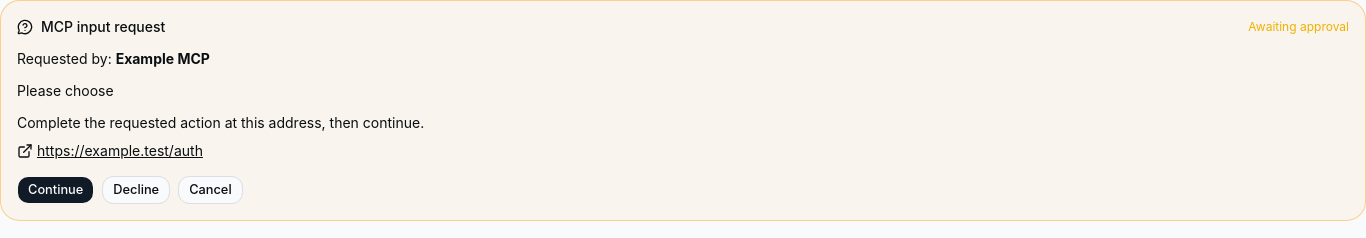
it: keeps the submitted choice visible when delivery later fails
This screenshot has width=1366, height=238.
Click the button "Continue" at (56, 190), box left=17, top=176, right=94, bottom=204
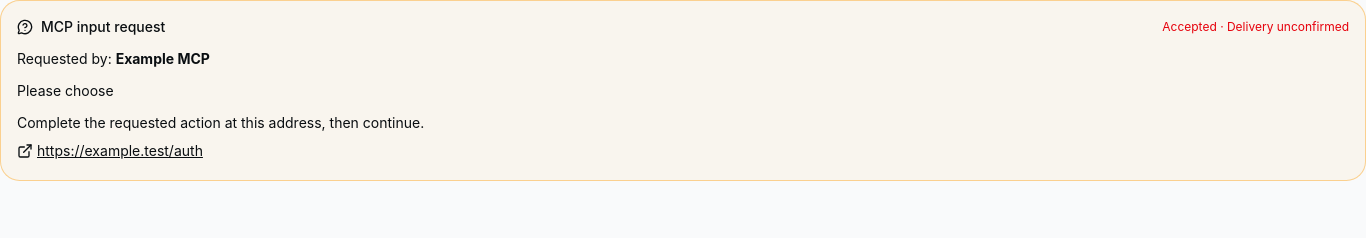
Expected: the text "Accepted · Delivery unconfirmed" is shown, left=1162, top=19, right=1349, bottom=35
